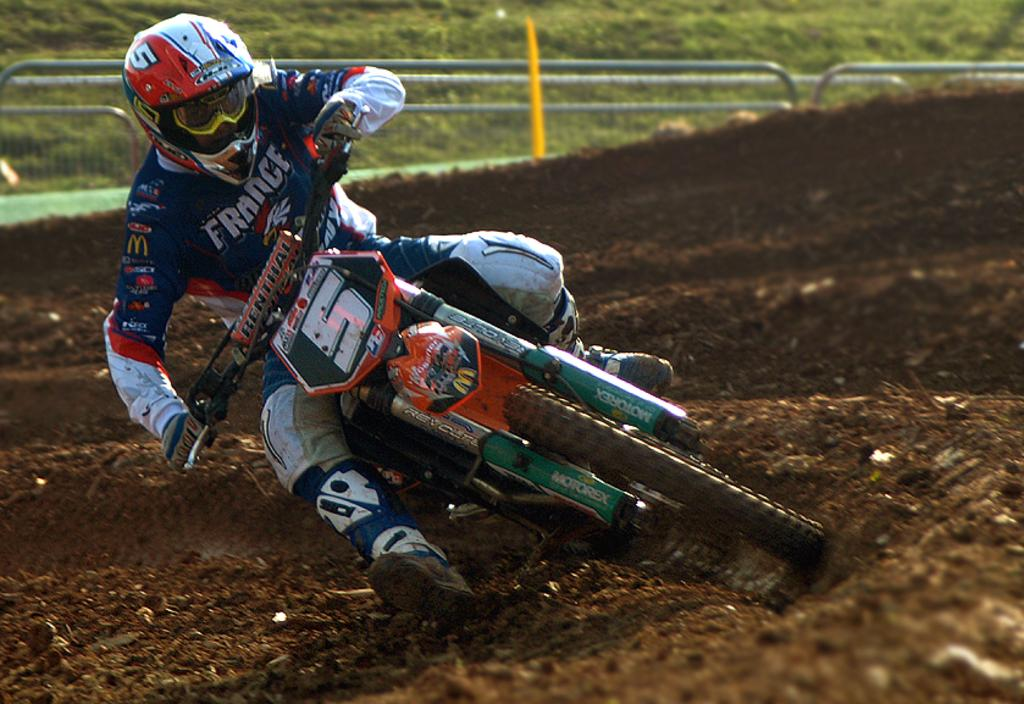helmet: (122, 13, 260, 188)
